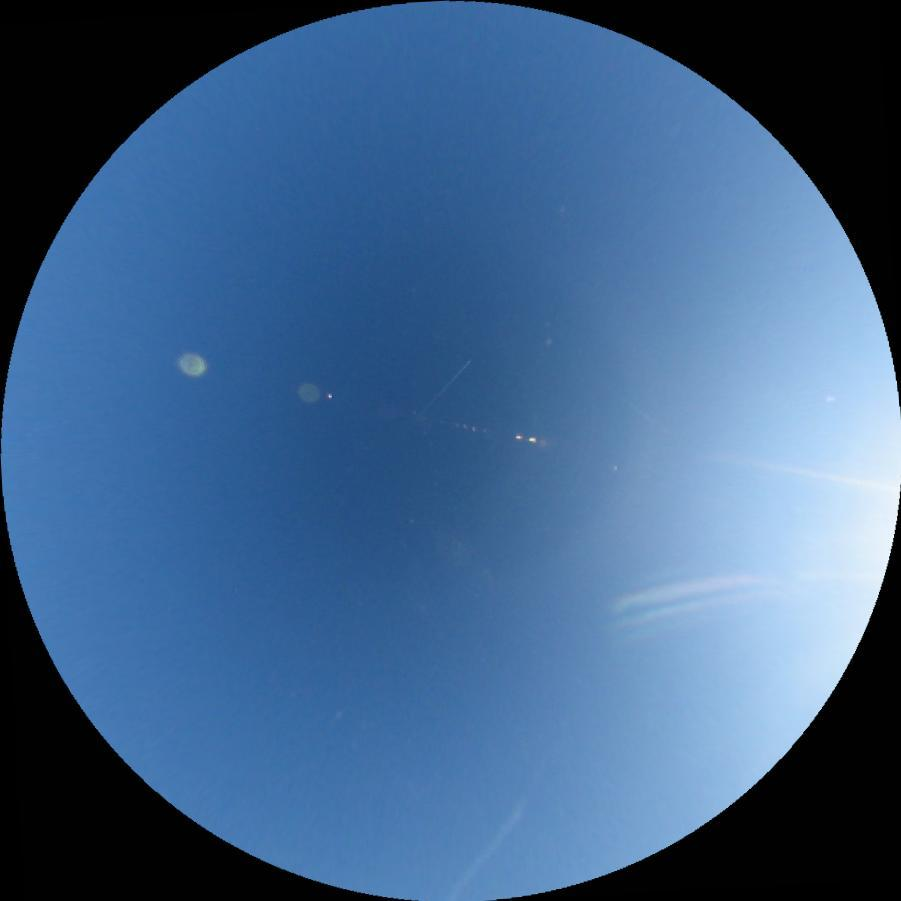contrail veryold: (445, 789, 536, 901)
contrail young: (419, 358, 472, 413), (619, 394, 653, 424)
parasite: (610, 562, 796, 613), (700, 451, 888, 488)
